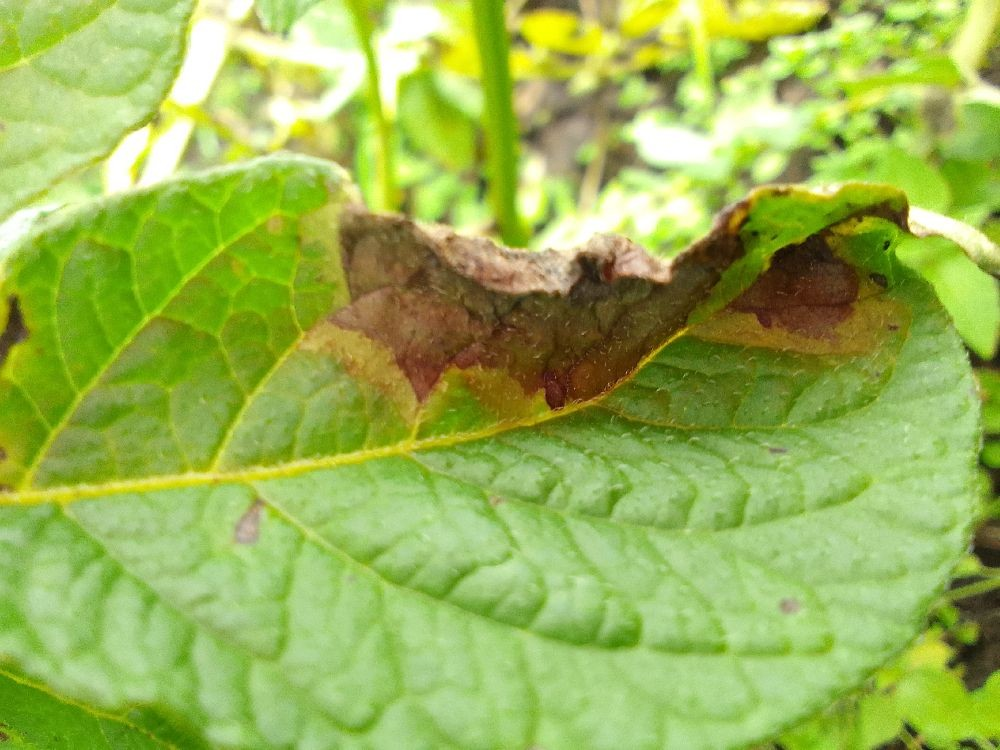late_blight: (275, 174, 927, 470), (501, 64, 658, 208), (921, 494, 1000, 713), (495, 0, 635, 47)
